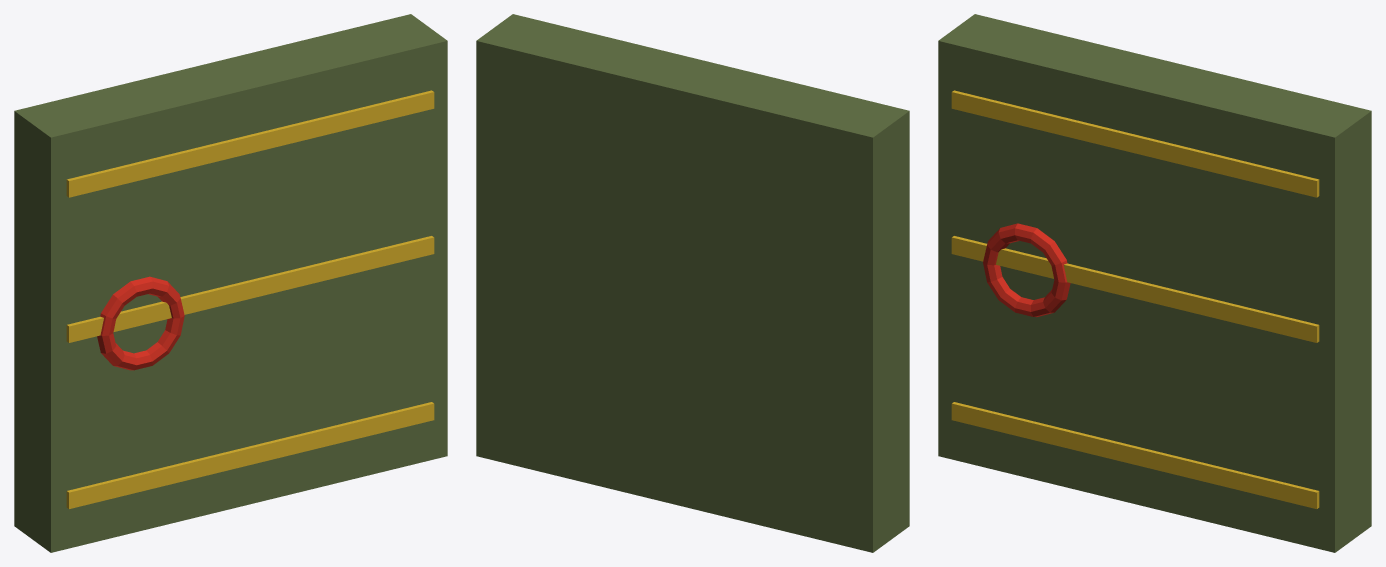
Rendered from bunker_door.obj.
3 views of the same model, side by side, from view 1: azimuth 30°, elevation 25°; view 2: azimuth 150°, elevation 25°; view 3: azimuth 330°, elevation 25° (orthographic).
Visible parts, largest first — view 1: bunker_door; view 2: bunker_door; view 3: bunker_door.
Boxes of the visible parts, x1,y1,x2,y2 form: bunker_door: [14, 14, 447, 552]; bunker_door: [476, 14, 909, 552]; bunker_door: [938, 14, 1371, 552].
Bounding box in the file's own units: 2 × 2 × 0.36.
